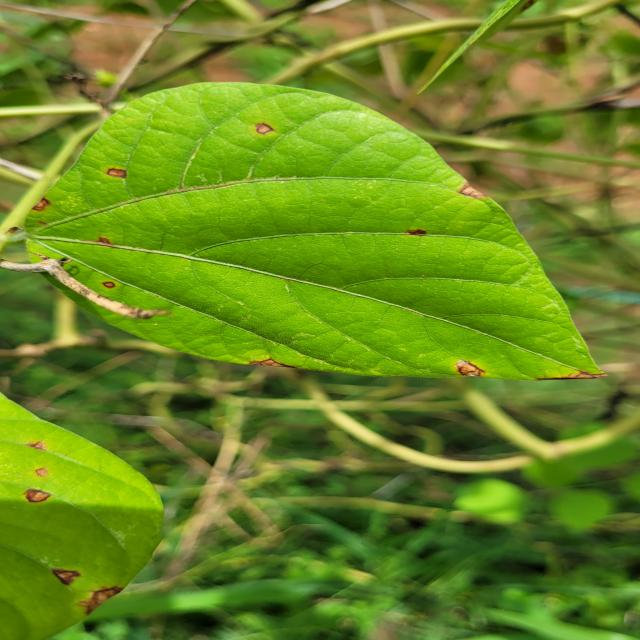Dolicos bean_cercospora leaf spot: (23, 84, 617, 382), (0, 397, 170, 640)
